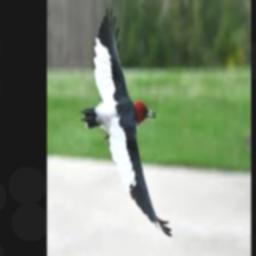Woodpecker: (81, 7, 171, 237)
